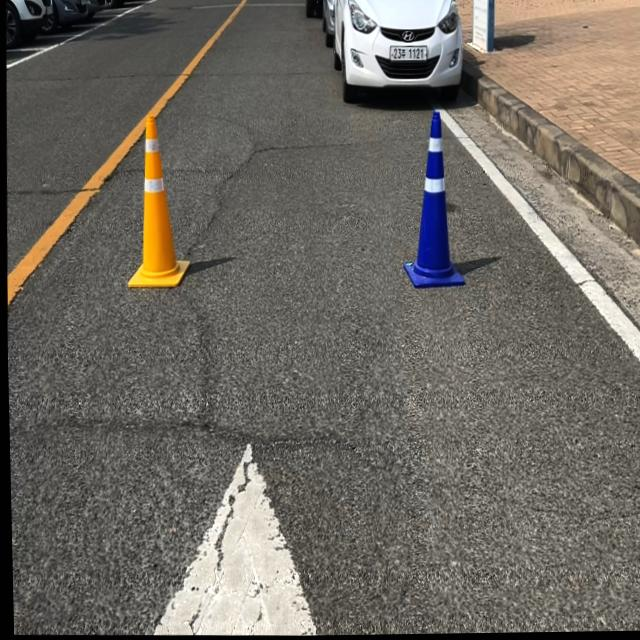b_rub: (403, 109, 464, 288)
y_rub: (126, 111, 188, 287)
